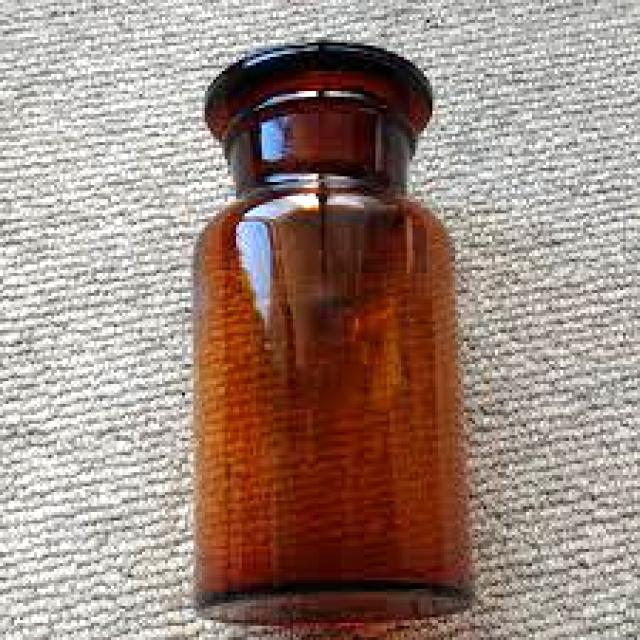Glass: (189, 34, 482, 635)
